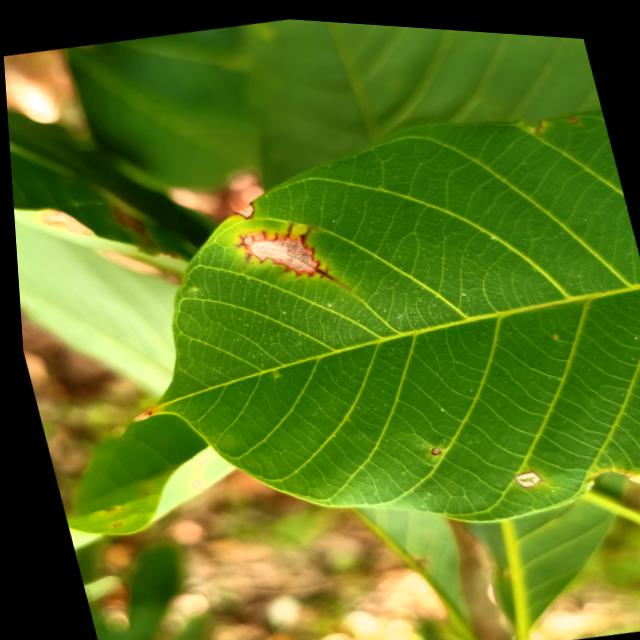Colletotrichum: (507, 462, 536, 483), (424, 441, 435, 451)
Corynespora: (229, 209, 346, 303)
Leaf-Blight: (246, 229, 313, 278), (126, 407, 148, 422)
